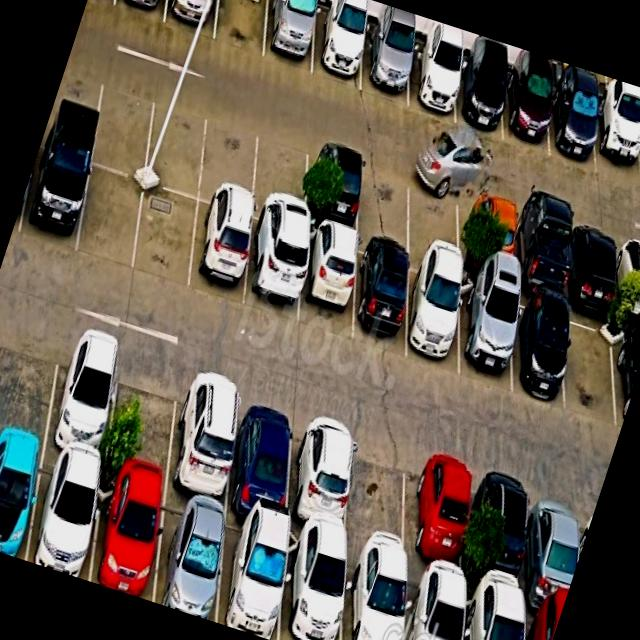empty: (106, 345, 181, 490), (347, 423, 414, 567), (0, 308, 63, 447), (144, 87, 211, 200), (77, 165, 145, 271), (91, 70, 156, 179), (133, 184, 198, 292), (198, 106, 258, 216), (565, 302, 619, 424), (251, 122, 309, 234), (360, 154, 412, 248), (410, 169, 461, 262), (214, 0, 268, 58)
occupied: (44, 325, 122, 468), (168, 366, 240, 509), (27, 451, 102, 581), (227, 385, 296, 526), (91, 472, 164, 602), (153, 492, 225, 623), (287, 404, 352, 546), (216, 513, 287, 640), (407, 441, 469, 586), (19, 143, 92, 254), (474, 461, 531, 603), (279, 532, 345, 640), (527, 478, 579, 614), (298, 223, 357, 341), (188, 202, 251, 307), (352, 239, 408, 355), (406, 256, 459, 376), (511, 290, 564, 404), (244, 221, 302, 325), (460, 275, 511, 393), (343, 553, 406, 640), (306, 138, 363, 234), (0, 438, 44, 560), (514, 202, 565, 300), (311, 5, 366, 90), (463, 186, 512, 281), (549, 81, 596, 173), (503, 67, 551, 156), (404, 569, 463, 640), (571, 218, 616, 310), (594, 98, 640, 188), (455, 56, 504, 140), (263, 0, 316, 75), (408, 40, 455, 123), (360, 26, 409, 104), (465, 587, 523, 640), (619, 318, 640, 430), (164, 0, 218, 39), (618, 232, 640, 317), (524, 604, 561, 640), (114, 0, 167, 22)
